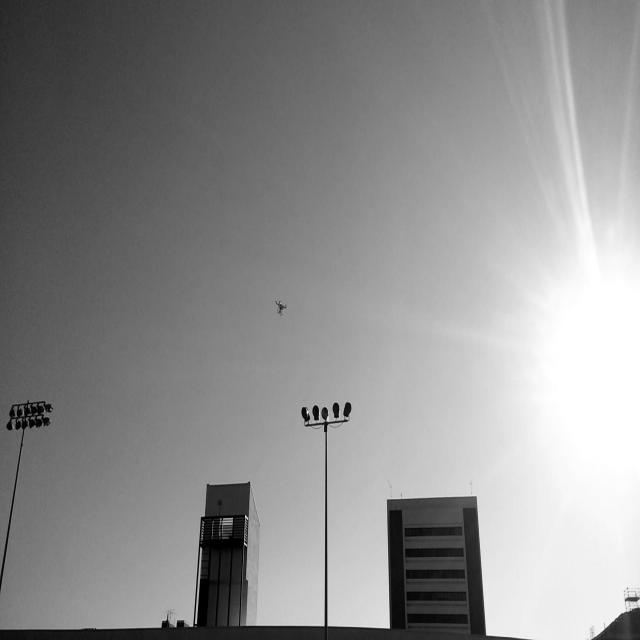drone: (273, 295, 290, 320)
